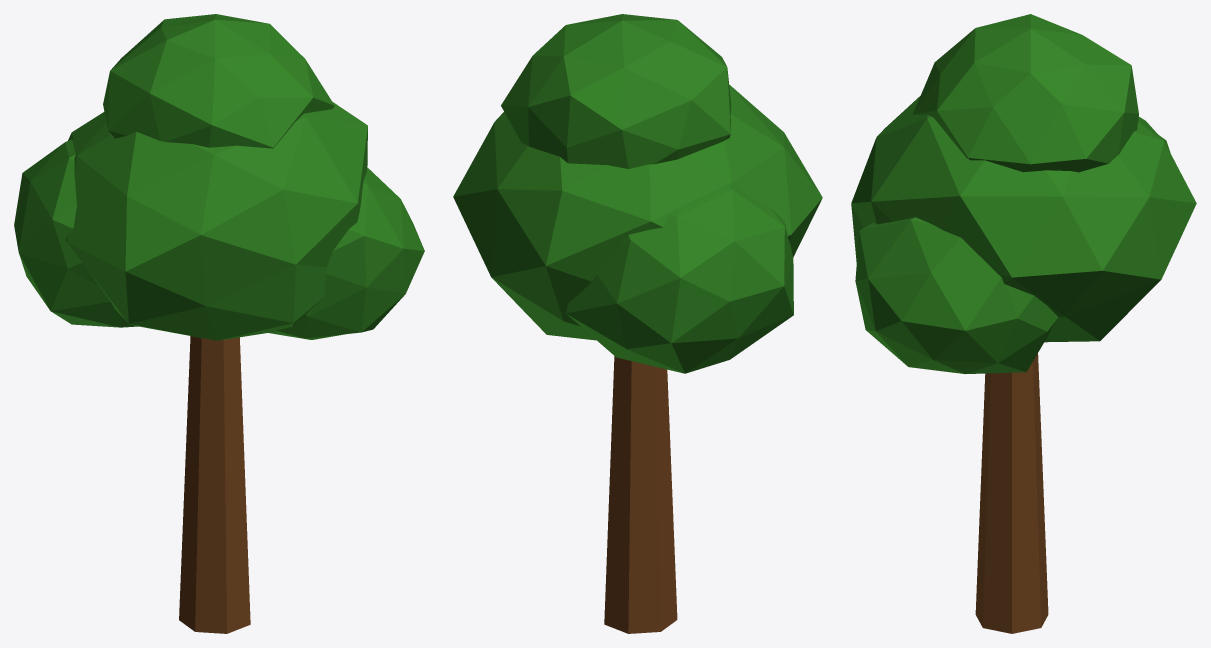
File: tree.glb
3 views of the same model, side by side, from view 1: azimuth 30°, elevation 25°; view 2: azimuth 150°, elevation 25°; view 3: azimuth 270°, elevation 25° (orthographic). The views are drawn at different scales.
Parts seen in each view (by area): view 1: tree; view 2: tree; view 3: tree.
Part boxes in pixels (box(x1,y1,x2,y2)): tree: box(14, 14, 424, 633); tree: box(453, 14, 822, 633); tree: box(851, 14, 1196, 633).
Bounding box in the file's own units: 4.26 × 7.01 × 3.7.
